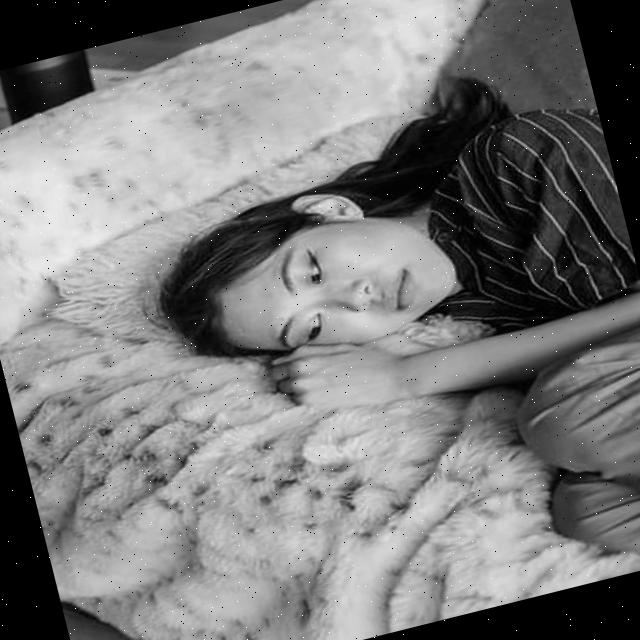Sadness: (217, 204, 468, 371)
